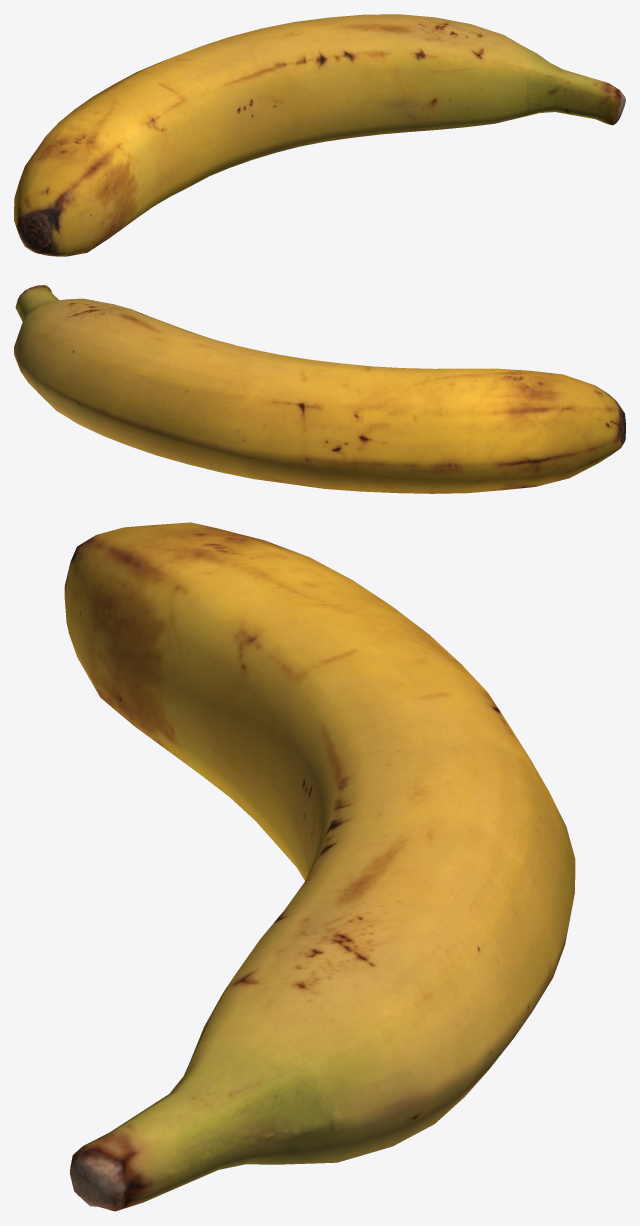
The model's file is Banana.fbx.
The picture shows the model from 3 angles, top to bottom: view 1: azimuth 30°, elevation 25°; view 2: azimuth 150°, elevation 25°; view 3: azimuth 270°, elevation 25°; orthographic projection. The views are drawn at different scales.
Visible parts, largest first — view 1: Banana; view 2: Banana; view 3: Banana.
Part boxes in pixels (left/top/right/bottom): Banana: left=14, top=14, right=625, bottom=256; Banana: left=14, top=285, right=625, bottom=493; Banana: left=64, top=522, right=575, bottom=1211.
Size of the model in its own units: 21.4 by 3.63 by 7.86.
